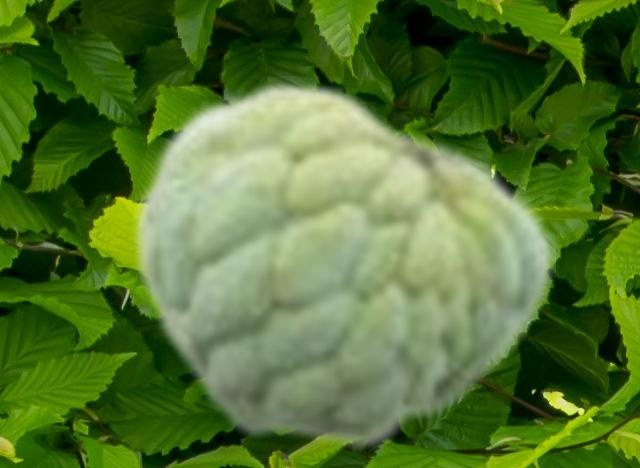atis: (129, 76, 554, 453)
